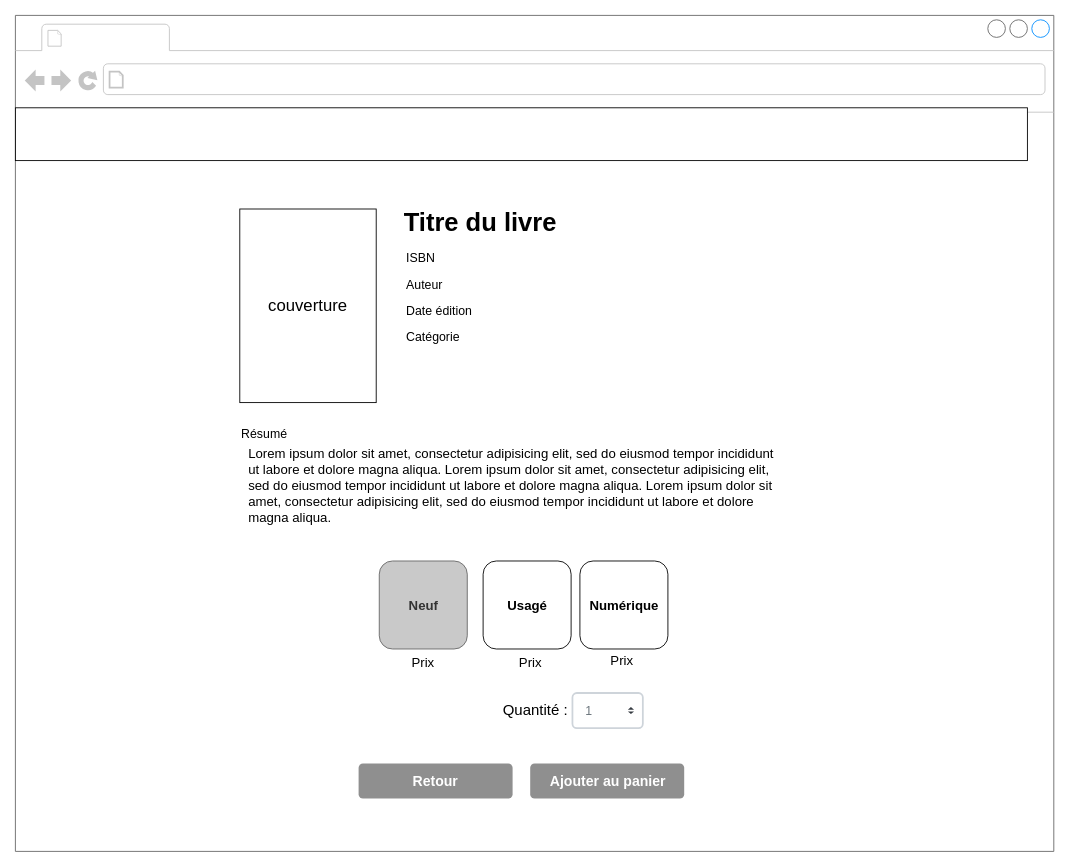
Some shapes in this 1069 by 867 pixel diagram are drawn without their labels. The centre of each missing label's shape, as x and y in pixels:
Barre de navigation: [521,134]
https://www.AjouterLivre: [239,79]
Page 1: [116,37]
